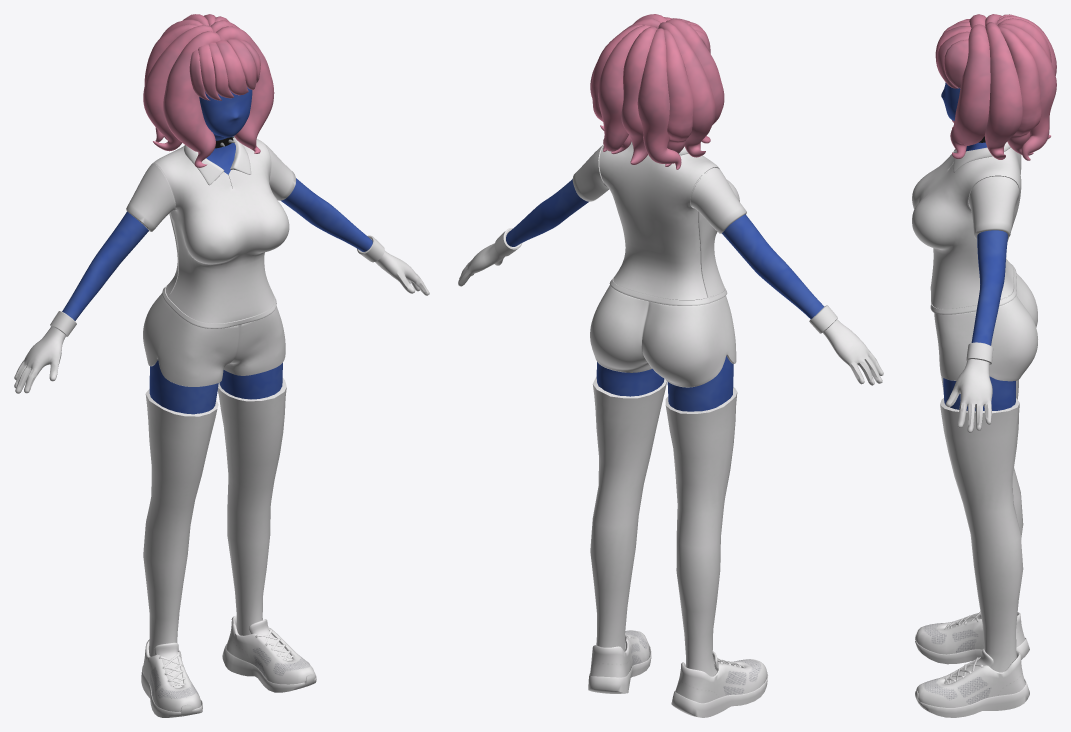
Rendered from godiva.glb.
3 renders of one model, left to right at view 1: azimuth 30°, elevation 25°; view 2: azimuth 150°, elevation 25°; view 3: azimuth 270°, elevation 25°, orthographic. The views are drawn at different scales.
Parts seen in each view (by area): view 1: Socks, T-shirt, Hair, Godiva, Short, Sneakers, Glove, Glove_Decorative; view 2: Socks, T-shirt, Hair, Short, Godiva, Sneakers, Glove, Glove_Decorative; view 3: Hair, Socks, T-shirt, Sneakers, Short, Godiva, Glove, Glove_Decorative.
Part boxes in pixels (left/top/right/bottom): Socks: left=143, top=378, right=286, bottom=656; T-shirt: left=126, top=137, right=295, bottom=328; Hair: left=143, top=14, right=274, bottom=167; Godiva: left=62, top=87, right=372, bottom=414; Short: left=143, top=293, right=285, bottom=386; Sneakers: left=141, top=615, right=316, bottom=717; Glove: left=14, top=250, right=429, bottom=393; Glove_Decorative: left=50, top=235, right=384, bottom=336; Socks: left=590, top=376, right=737, bottom=676; T-shirt: left=572, top=141, right=746, bottom=305; Hair: left=590, top=14, right=724, bottom=169; Short: left=590, top=285, right=736, bottom=387; Godiva: left=506, top=179, right=824, bottom=411; Sneakers: left=588, top=630, right=767, bottom=717; Glove: left=458, top=243, right=883, bottom=385; Glove_Decorative: left=494, top=228, right=837, bottom=333; Hair: left=935, top=14, right=1056, bottom=160; Socks: left=940, top=376, right=1023, bottom=672; T-shirt: left=912, top=142, right=1021, bottom=314; Sneakers: left=915, top=611, right=1029, bottom=717; Short: left=934, top=273, right=1037, bottom=381; Godiva: left=941, top=82, right=1015, bottom=411; Glove: left=945, top=359, right=992, bottom=432; Glove_Decorative: left=966, top=342, right=993, bottom=364.
Size of the model in its own units: 1.33 by 2.03 by 0.402.
2 materials, 2 textured.
